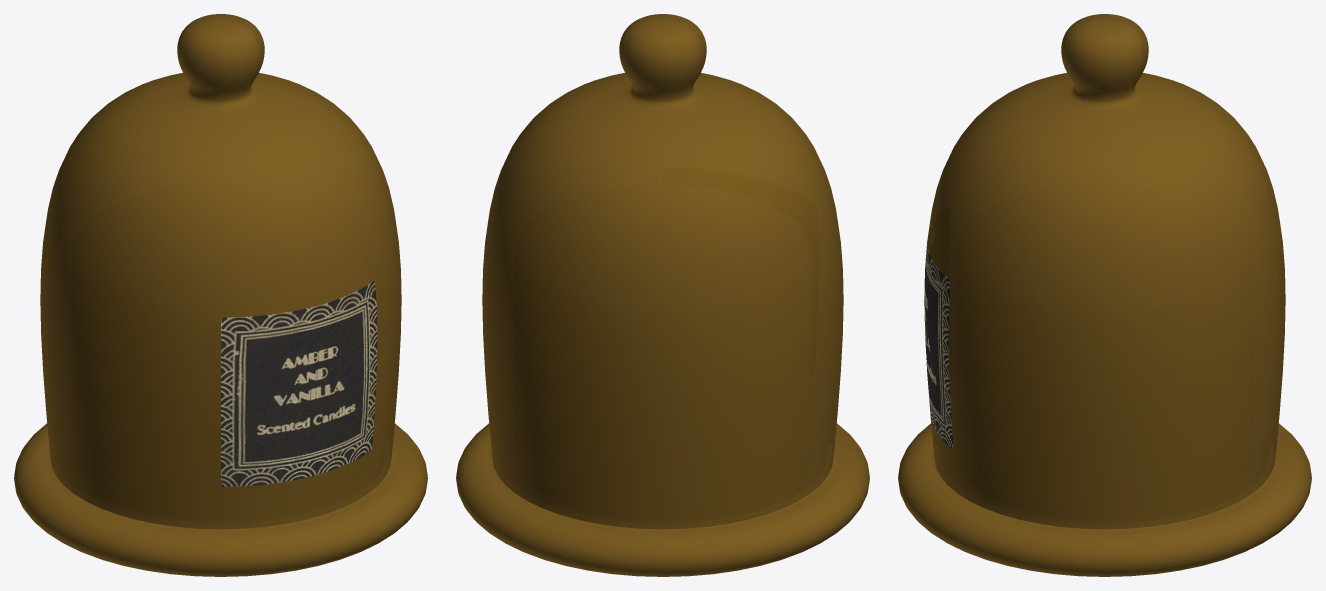
Rendered from Scented_candle.dae.
The picture shows the model from 3 angles, left to right: view 1: azimuth 30°, elevation 25°; view 2: azimuth 150°, elevation 25°; view 3: azimuth 270°, elevation 25°; orthographic projection.
Visible parts, largest first — view 1: group_0 (×2), group_1 (×2); view 2: group_0, group_1 (×2); view 3: group_0 (×2), group_1 (×2).
Part boxes in pixels (<box>): group_0 (×2): <box>40,14,401,529</box>; group_1 (×2): <box>14,423,427,576</box>; group_0: <box>482,14,843,529</box>; group_1 (×2): <box>456,423,869,576</box>; group_0 (×2): <box>924,14,1285,529</box>; group_1 (×2): <box>898,423,1311,576</box>.
Bounding box in the file's own units: 4.49 × 4.49 × 5.7.
Materials: 5 (1 with a texture image).
